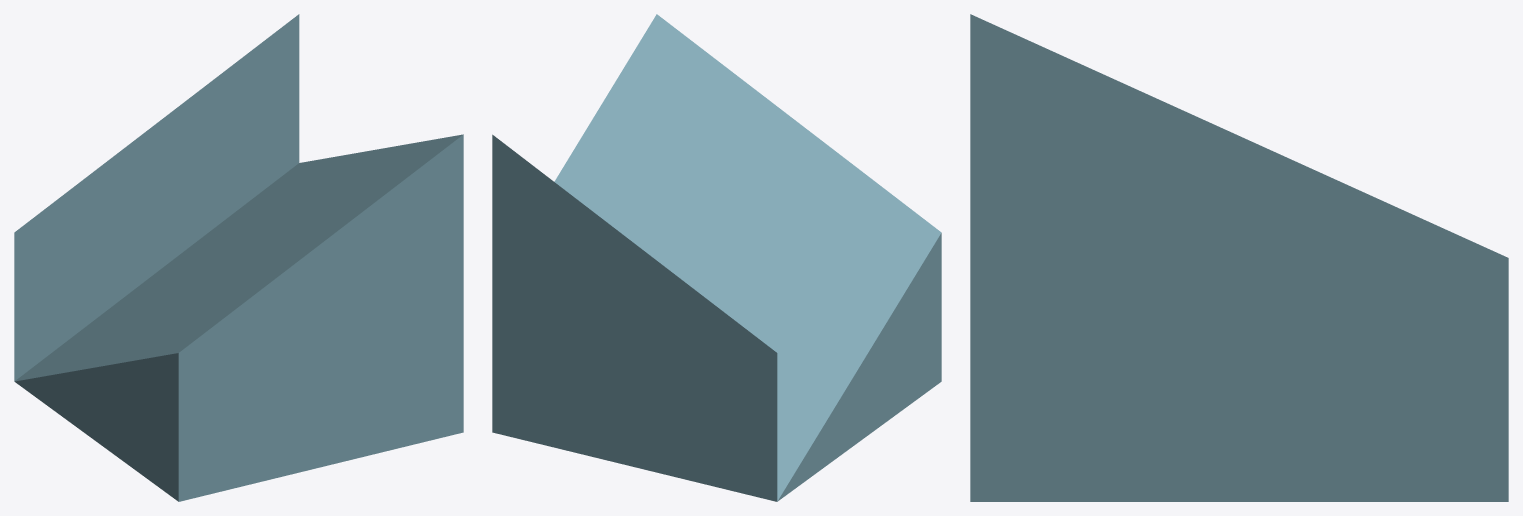
Rendered from ThinConveyor_Corner.glb.
3 renders of one model, left to right at view 1: azimuth 30°, elevation 25°; view 2: azimuth 150°, elevation 25°; view 3: azimuth 270°, elevation 25°, orthographic. The views are drawn at different scales.
Parts seen in each view (by area): view 1: ThinConveyor_Corner_body; view 2: ThinConveyor_Corner_body; view 3: ThinConveyor_Corner_body.
Boxes of the visible parts, box(x1,y1,x2,y2) form: ThinConveyor_Corner_body: box(14, 14, 463, 501); ThinConveyor_Corner_body: box(492, 14, 941, 501); ThinConveyor_Corner_body: box(970, 14, 1508, 501).
Size of the model in its own units: 1 by 1 by 1.
